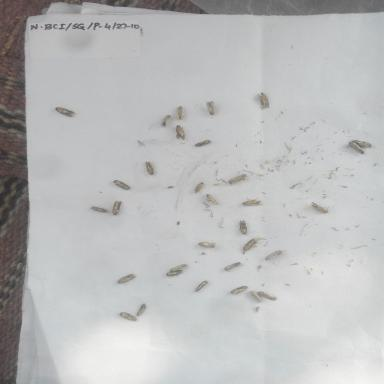pbw: (305, 201, 333, 216), (113, 271, 140, 285), (116, 310, 140, 324), (168, 124, 190, 139), (225, 174, 248, 188), (107, 200, 127, 216), (236, 218, 252, 238), (110, 178, 132, 192), (346, 141, 368, 155), (248, 287, 267, 303), (141, 160, 158, 177), (253, 92, 270, 109), (52, 106, 76, 118), (196, 240, 222, 251), (256, 287, 278, 300), (227, 284, 250, 296), (264, 248, 285, 261), (242, 238, 260, 253), (220, 261, 242, 273), (240, 196, 264, 207), (350, 136, 372, 148), (191, 281, 210, 294), (87, 204, 107, 216), (163, 268, 187, 278), (190, 180, 205, 195), (175, 104, 189, 120), (204, 192, 220, 206), (203, 100, 217, 116), (168, 262, 190, 272), (158, 113, 173, 127), (135, 302, 149, 317), (191, 139, 214, 148)
